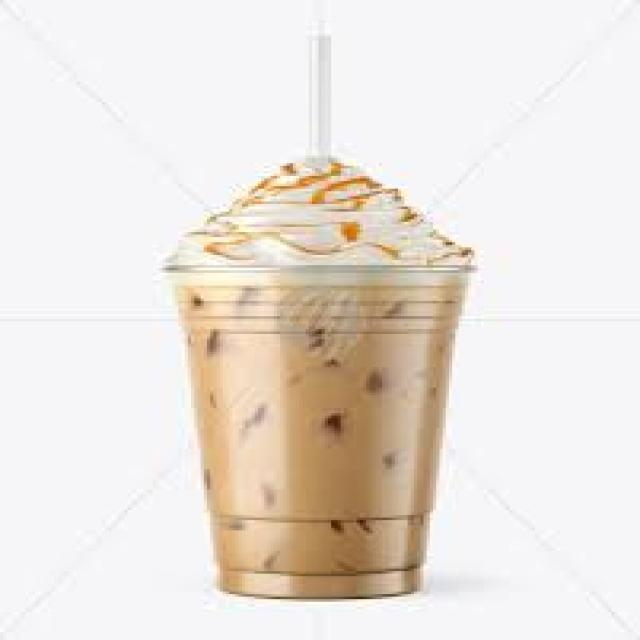bottle: (168, 268, 470, 597)
